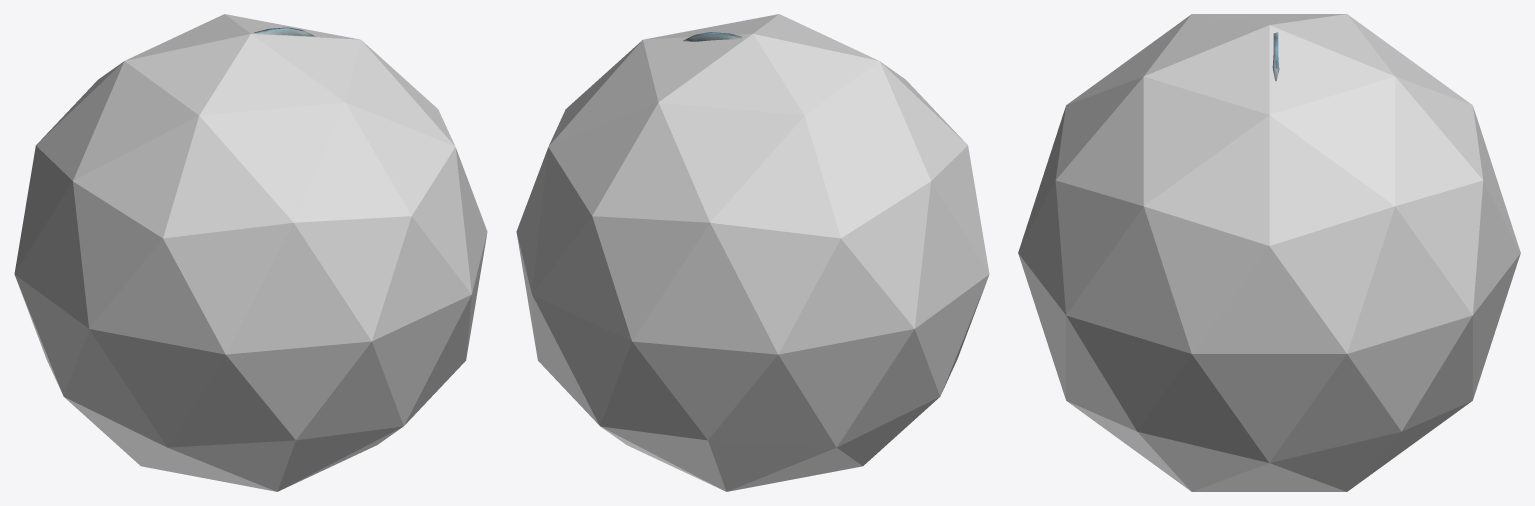
The model's file is axe.fbx.
3 renders of one model, left to right at view 1: azimuth 30°, elevation 25°; view 2: azimuth 150°, elevation 25°; view 3: azimuth 270°, elevation 25°, orthographic. The views are drawn at different scales.
Parts seen in each view (by area): view 1: Icosphere; view 2: Icosphere; view 3: Icosphere.
Boxes of the visible parts, <box> form: Icosphere: <box>14,14,487,491</box>; Icosphere: <box>516,14,989,491</box>; Icosphere: <box>1018,14,1520,491</box>.
Bounding box in the file's own units: 190 × 200 × 200.
1 material, 1 textured.
